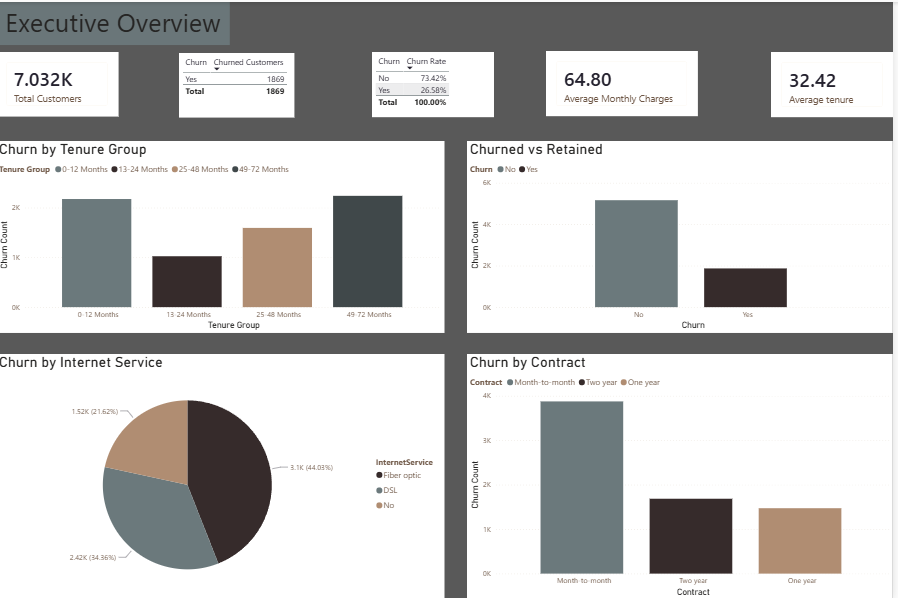

This screenshot's page, from the dashboard's own definition file:
{"tool":"powerbi","page":{"name":"Executive Overview","canvas":[1500,1000],"ordinal":0},"visuals":[{"type":"cardVisual","fields":{"Data":["CountNonNull(Telco-Customer-Churn.customerID)"]},"box":[0,84,204.9,107.5],"z":0},{"type":"textbox","box":[0,0,391.4,72.2],"z":1000},{"type":"tableEx","fields":{"Values":["Telco-Customer-Churn.Churn","CountNonNull(Telco-Customer-Churn.Churn)1"]},"box":[306.6,85.8,193.4,107.7],"z":2000},{"type":"tableEx","fields":{"Values":["Divide(CountNonNull(Telco-Customer-Churn.Churn), ScopedEval(CountNonNull(Telco-Customer-Churn.Churn), []))","CountNonNull(Telco-Customer-Churn.Churn)"]},"box":[629.6,83.9,204.4,109.5],"z":3000},{"type":"cardVisual","fields":{"Data":["Avg(Telco-Customer-Churn.MonthlyCharges)"]},"box":[919.7,82.1,253.6,109.5],"z":4000},{"type":"cardVisual","fields":{"Data":["Avg(Telco-Customer-Churn.tenure)"]},"box":[1295.6,83.9,204.4,109.5],"z":5000},{"type":"columnChart","title":"Churned vs Retained","fields":{"Category":["Telco-Customer-Churn.Churn"],"Y":["CountNonNull(Telco-Customer-Churn.Churn)"],"Series":["Telco-Customer-Churn.Churn"]},"box":[788.3,231.8,711.7,321.2],"z":6000},{"type":"columnChart","title":"Churn by Contract","fields":{"Category":["Telco-Customer-Churn.Contract"],"Y":["CountNonNull(Telco-Customer-Churn.Churn)"],"Series":["Telco-Customer-Churn.Contract"]},"box":[788.3,589.4,711.7,410.6],"z":7000},{"type":"columnChart","title":"Churn by Tenure Group","fields":{"Category":["Telco-Customer-Churn.Tenure Group"],"Y":["CountNonNull(Telco-Customer-Churn.Churn)"],"Series":["Telco-Customer-Churn.Tenure Group"]},"box":[0,231.8,750,321.2],"z":8000},{"type":"pieChart","title":"Churn by Internet Service","fields":{"Category":["Telco-Customer-Churn.InternetService"],"Y":["CountNonNull(Telco-Customer-Churn.Churn)"]},"box":[0,589.4,750,410.6],"z":9000}]}

Visuals, with their boxes in screenshot pixels (x1, y1, x2, y2), scaled from the page's 1500x1000 canvas onto the 898x598 screenshot:
cardVisual - CountNonNull(Telco-Customer-Churn.customerID): <region>0, 50, 123, 115</region>
textbox: <region>0, 0, 234, 43</region>
tableEx - Telco-Customer-Churn.Churn x CountNonNull(Telco-Customer-Churn.Churn)1: <region>184, 51, 299, 116</region>
tableEx - Divide(CountNonNull(Telco-Customer-Churn.Churn), ScopedEval(CountNonNull(Telco-Customer-Churn.Churn), [])) x CountNonNull(Telco-Customer-Churn.Churn): <region>377, 50, 499, 116</region>
cardVisual - Avg(Telco-Customer-Churn.MonthlyCharges): <region>551, 49, 702, 115</region>
cardVisual - Avg(Telco-Customer-Churn.tenure): <region>776, 50, 897, 116</region>
"Churned vs Retained" columnChart: <region>472, 139, 897, 331</region>
"Churn by Contract" columnChart: <region>472, 352, 897, 597</region>
"Churn by Tenure Group" columnChart: <region>0, 139, 449, 331</region>
"Churn by Internet Service" pieChart: <region>0, 352, 449, 597</region>
